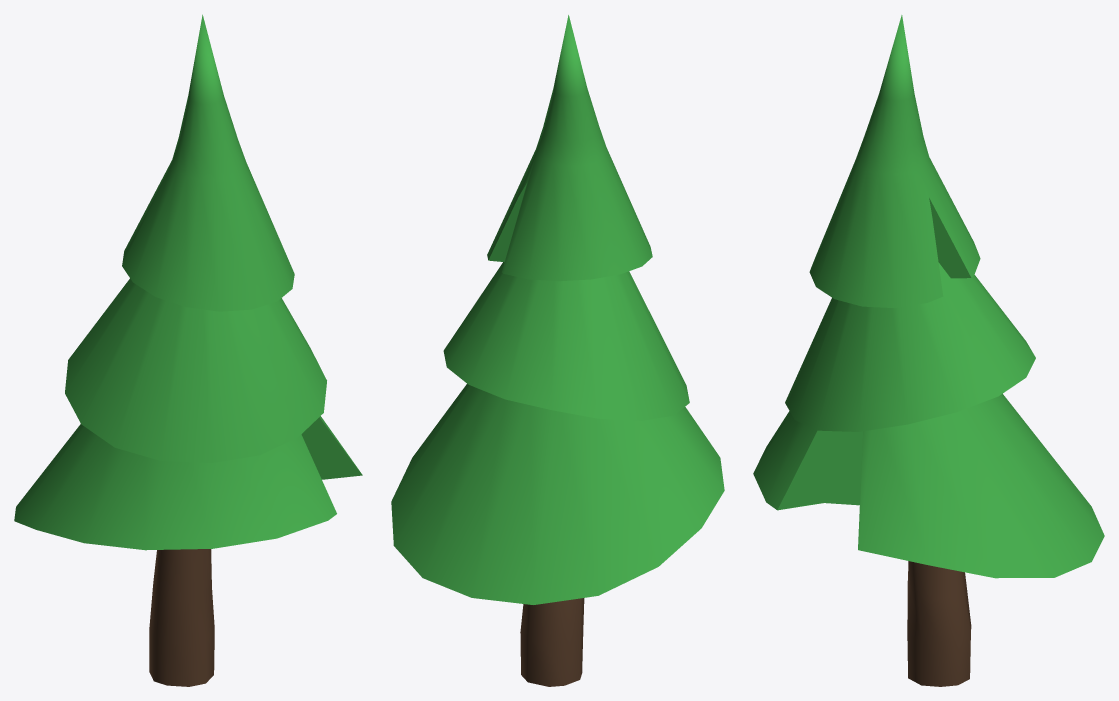
File: WF_PCGTree.05.glb
3 renders of one model, left to right at view 1: azimuth 30°, elevation 25°; view 2: azimuth 150°, elevation 25°; view 3: azimuth 270°, elevation 25°, orthographic. The views are drawn at different scales.
Parts seen in each view (by area): view 1: Tree.05; view 2: Tree.05; view 3: Tree.05.
Boxes of the visible parts, box(x1,y1,x2,y2) form: Tree.05: box(14, 14, 362, 686); Tree.05: box(391, 15, 724, 686); Tree.05: box(753, 15, 1104, 686).
Bounding box in the file's own units: 0.68 × 1.45 × 0.6988.
